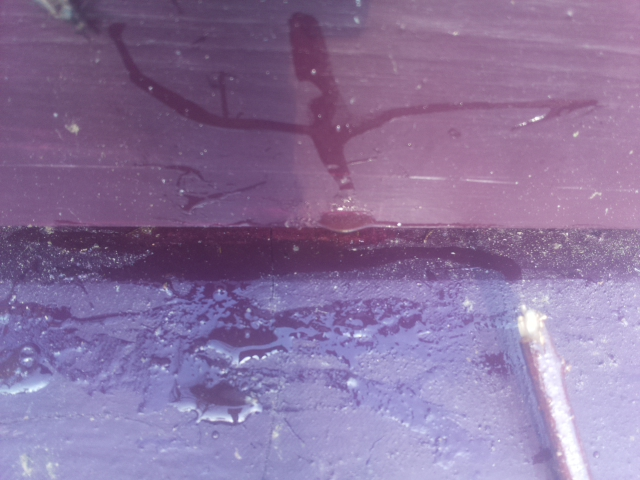ant: (0, 344, 49, 389)
